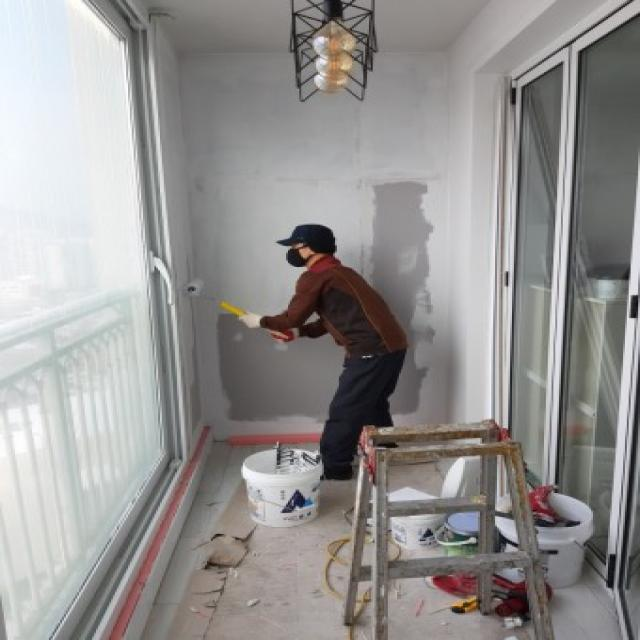plastic barrel: (496, 492, 595, 588), (241, 448, 324, 527), (390, 514, 446, 550)
roller: (183, 278, 289, 338)
